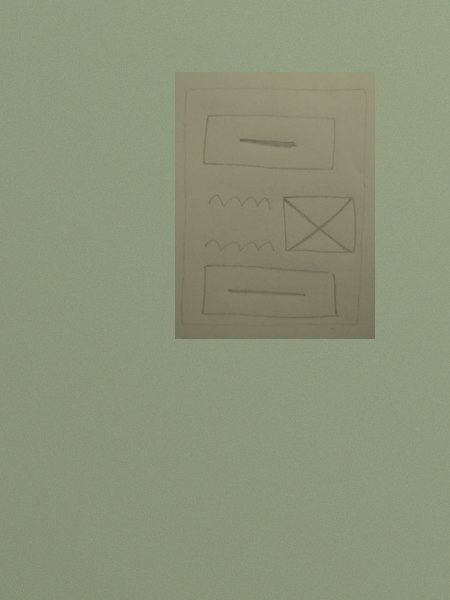button: (200, 259, 343, 322), (200, 109, 338, 173)
image: (279, 191, 359, 257)
text: (202, 188, 274, 216), (204, 235, 275, 258)
